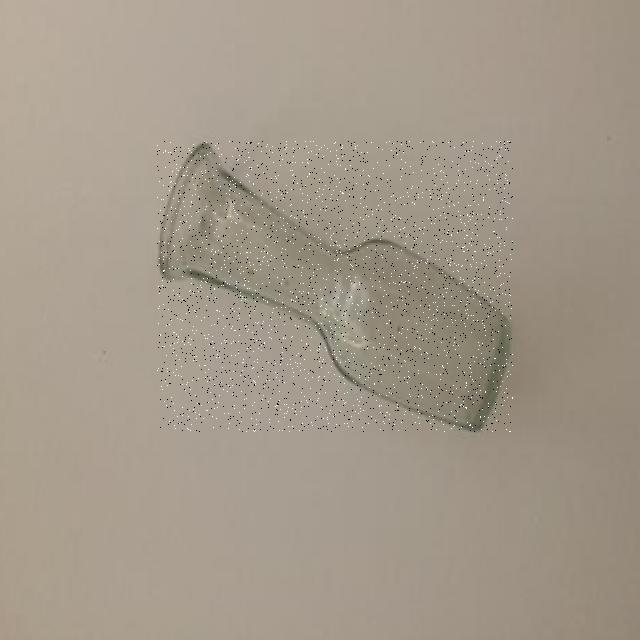glass: (157, 141, 513, 431)
